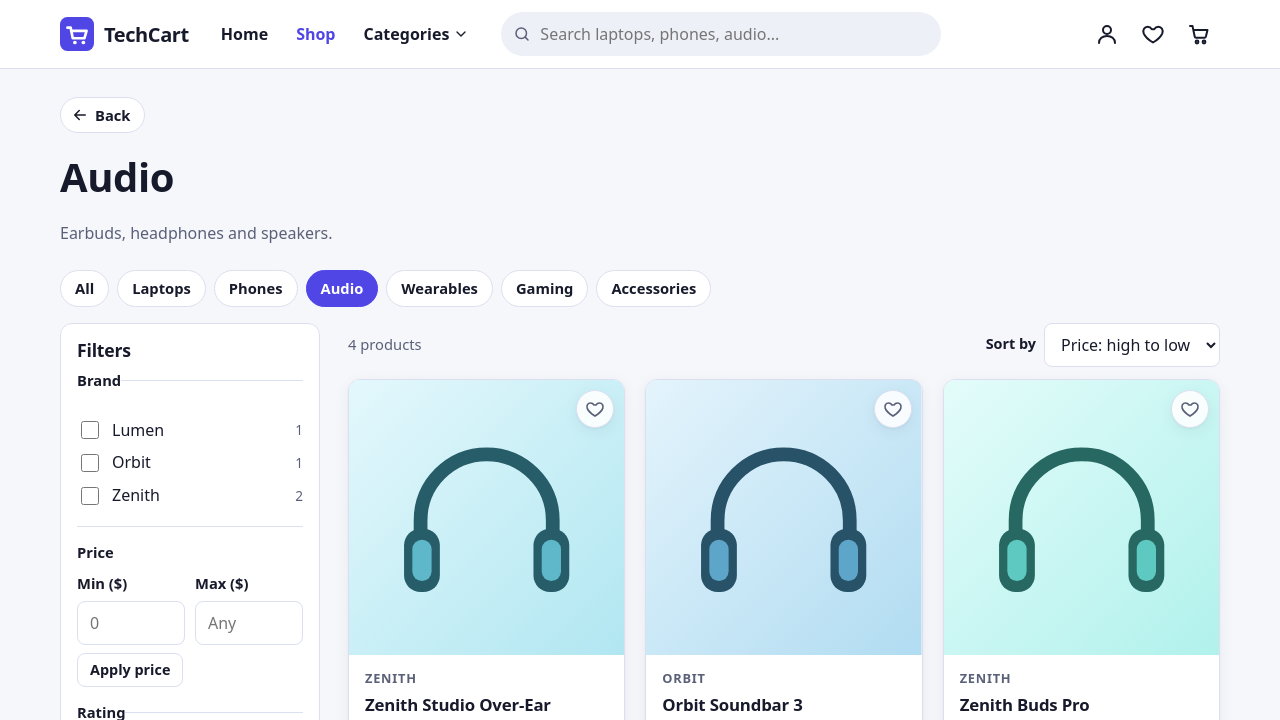
Scenario: BackButton › returns to the exact listing you came from, filters and all
The image size is (1280, 720).
Click the link "Zenith Buds Pro". click: (1025, 704)
box: [960, 693, 1090, 716]
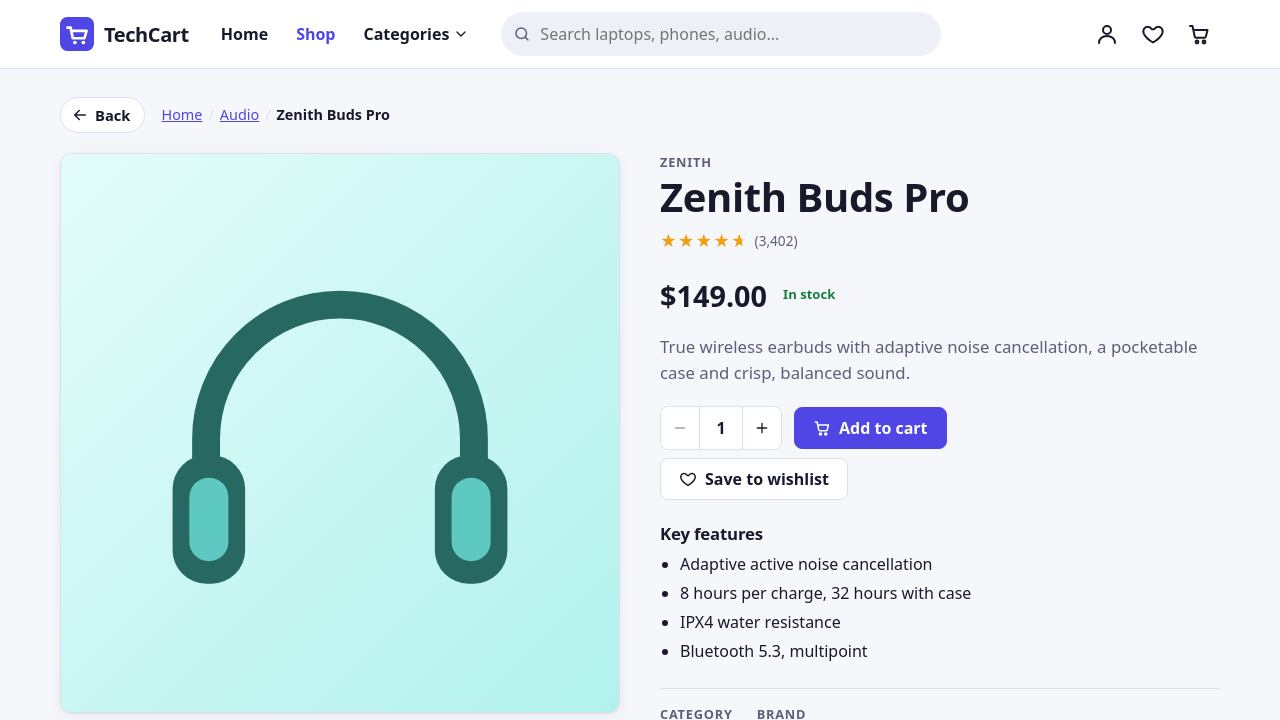
Check: the heading "Zenith Buds Pro" is shown, box [660, 169, 969, 224]
Click the button "Back". click: (103, 115)
box: [60, 97, 146, 133]
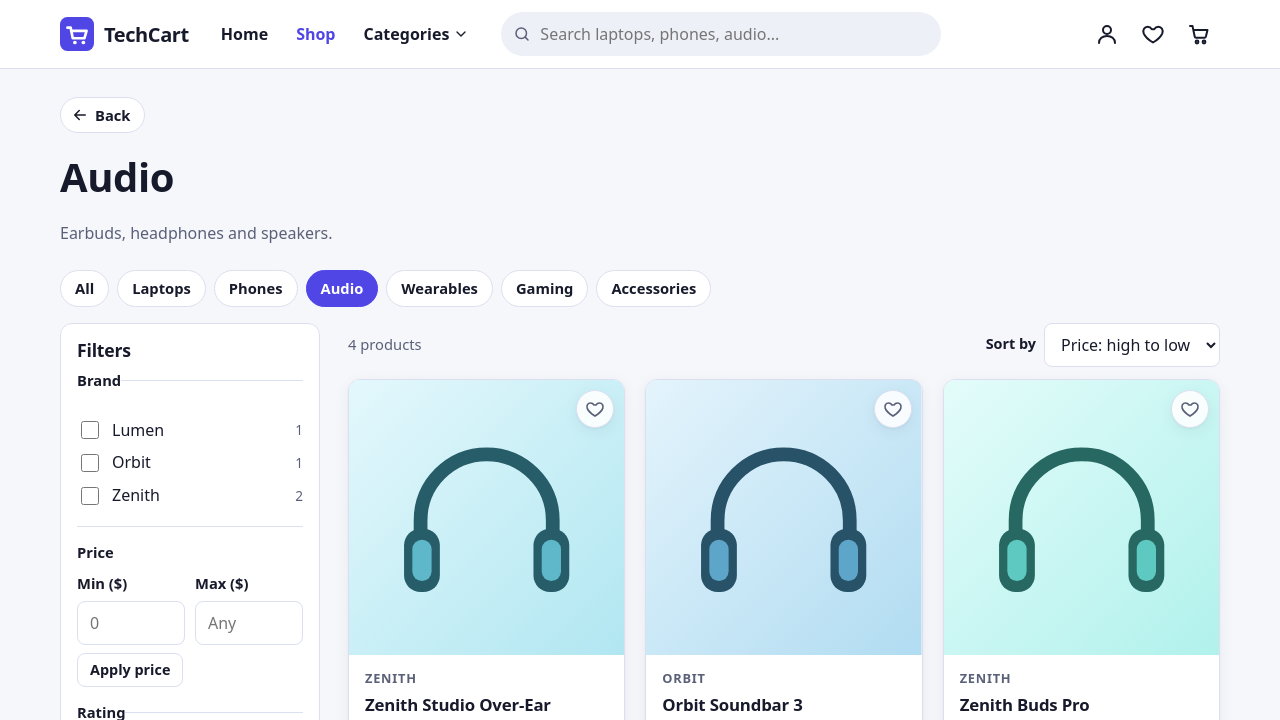
Check: the heading "Audio" is shown, box [60, 149, 174, 204]
Check: the dropdown labelled "Sort by" shows "Price: high to low", box [1044, 323, 1220, 367]
